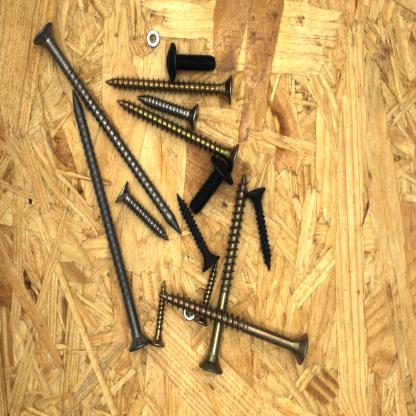screw: (30, 18, 188, 240), (69, 83, 154, 354), (157, 289, 311, 368), (196, 172, 250, 376), (114, 96, 244, 178), (104, 69, 237, 110), (171, 189, 223, 278), (111, 178, 173, 244), (135, 92, 205, 134), (242, 183, 274, 273), (163, 40, 221, 89), (192, 254, 222, 329), (147, 277, 170, 351)
